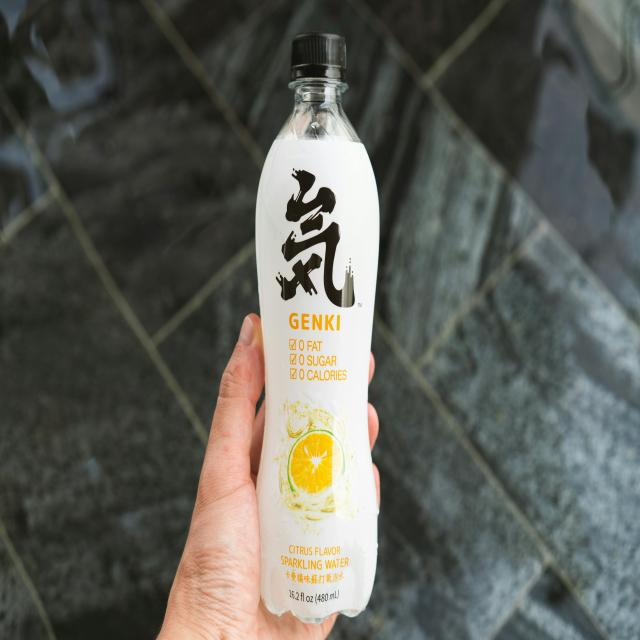bottle: (256, 40, 388, 628)
